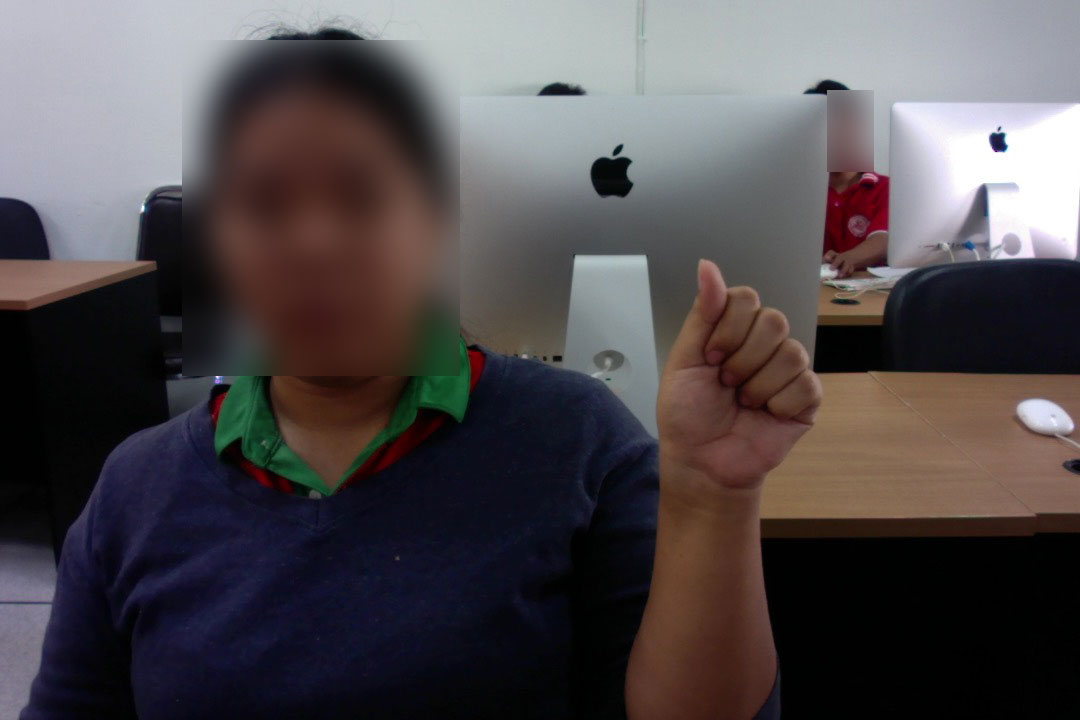or: (652, 253, 828, 498)
